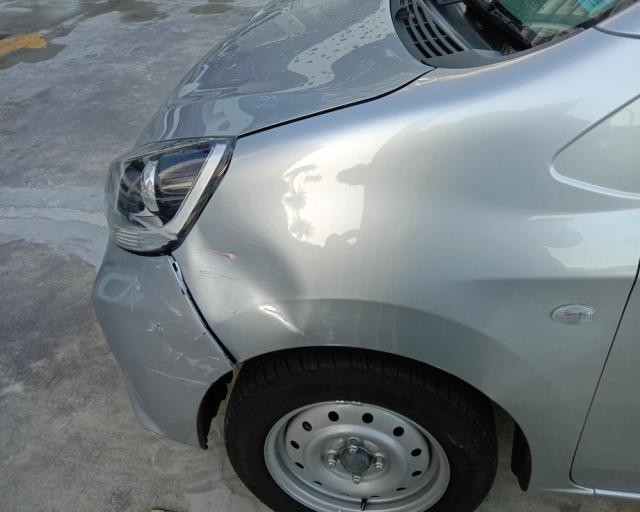dent: (187, 195, 308, 331)
scratch: (145, 262, 219, 387)
